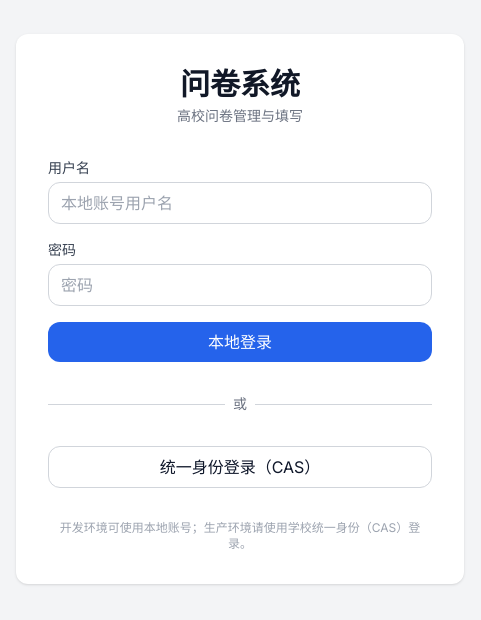
Test: 登录页 › 登录接口返回非 200 时显示错误信息
Step 1. Type "wrong" into the field labelled "用户名" → (240, 203), box [48, 182, 432, 224]
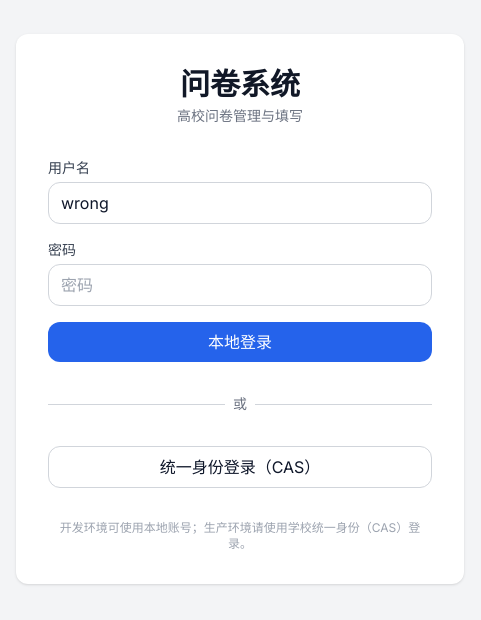
Step 2. Type "wrong" into the password field labelled "密码" → (240, 285), box [48, 264, 432, 306]
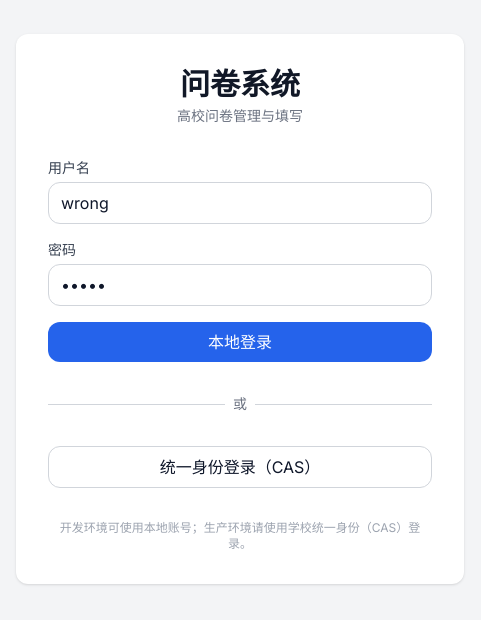
Step 3. Click the button "本地登录" → (240, 342), box [48, 322, 432, 362]
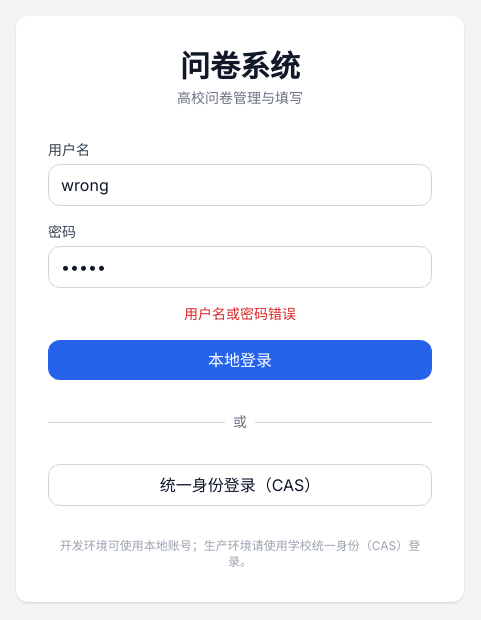
Expected: the text "用户名或密码错误" is shown, [184, 305, 296, 322]
